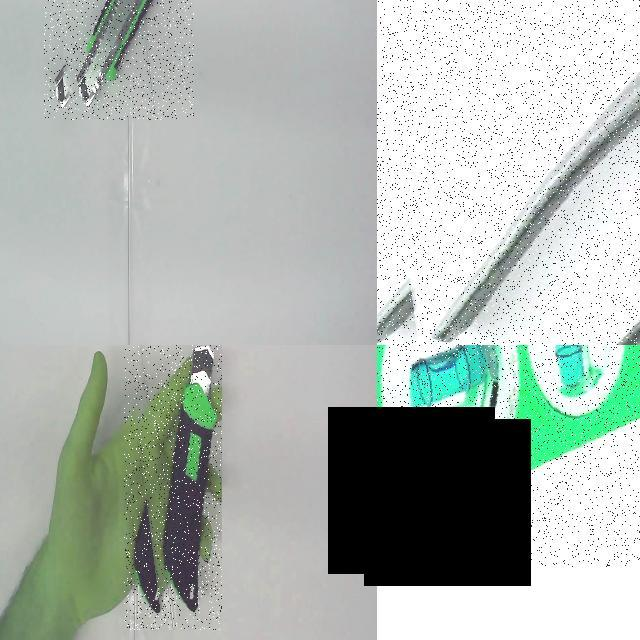estilete: (163, 347, 217, 611)
